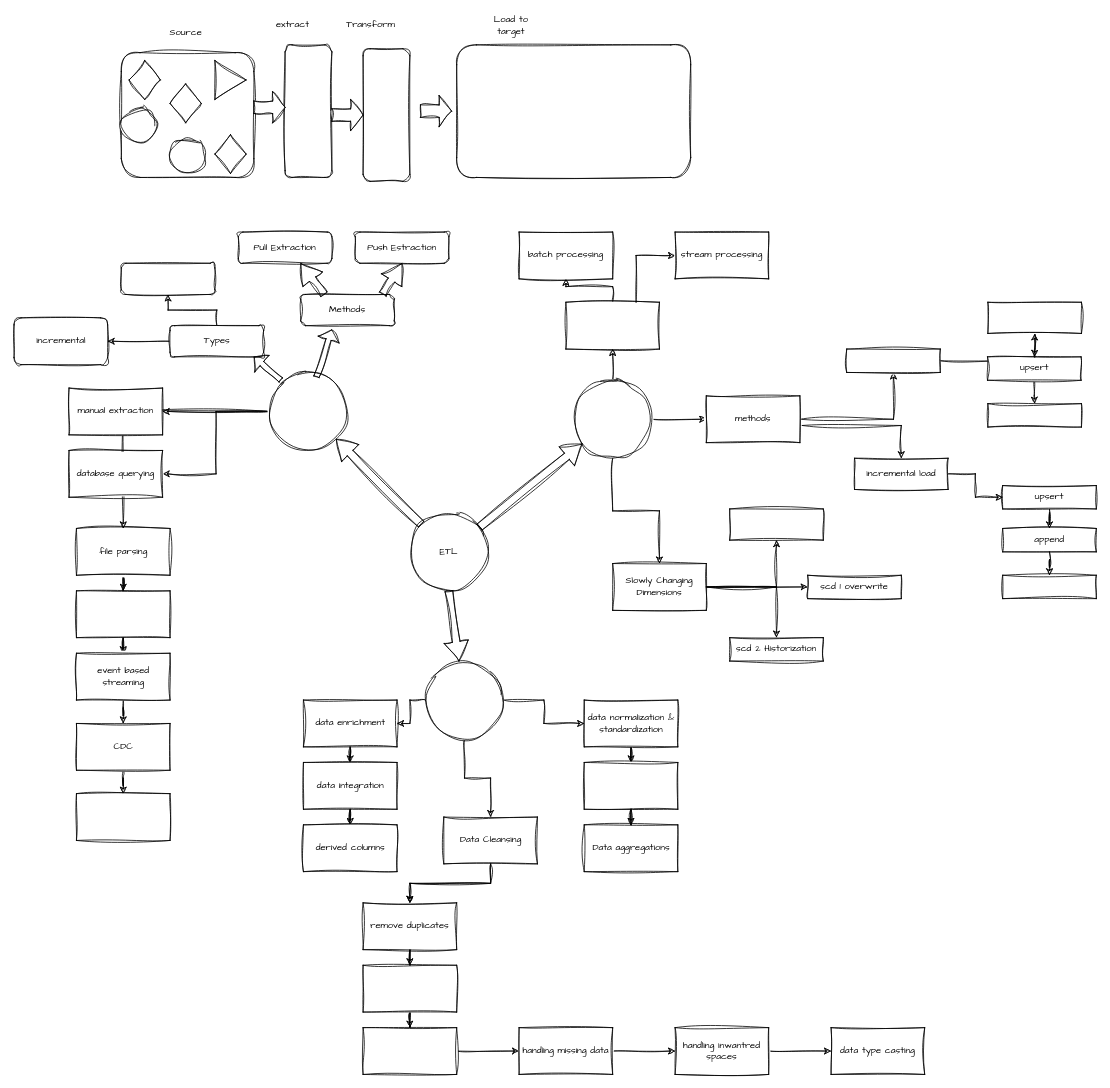
The diagram is 1110 pixels wide and 1088 high, and some of its shapes have lost their labels. The shapes that lost their labels are listed below. From the top down, each one's centre as x and y in pixels, then its label:
At (168,278): "Full".
At (612,325): "Processing tupes".
At (1034,317): "triuncate and insert".
At (893,360): "full load".
At (308,411): "Extraction".
At (612,418): "Load".
At (1034,415): "drop, create, insert".
At (776,524): "scd 0 No historisaation".
At (1049,586): "merge".
At (123,614): "api calls".
At (464,699): "Transformation".
At (630,785): "business rules and logic".
At (123,816): "web scraping".
At (409,988): "outlier detection".
At (409,1050): "data filtering".
